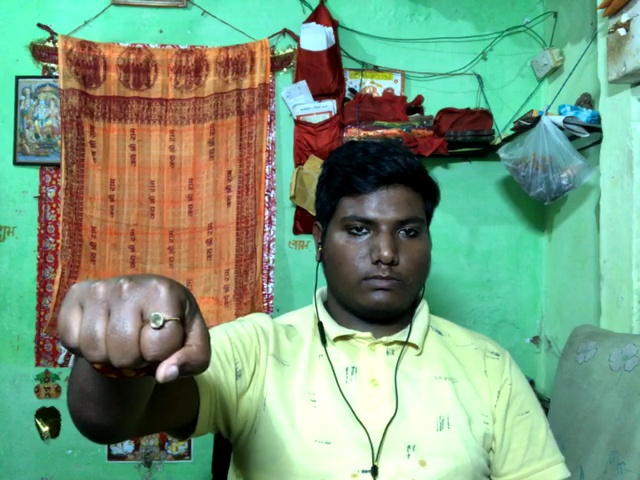Yes: (34, 262, 238, 439)
